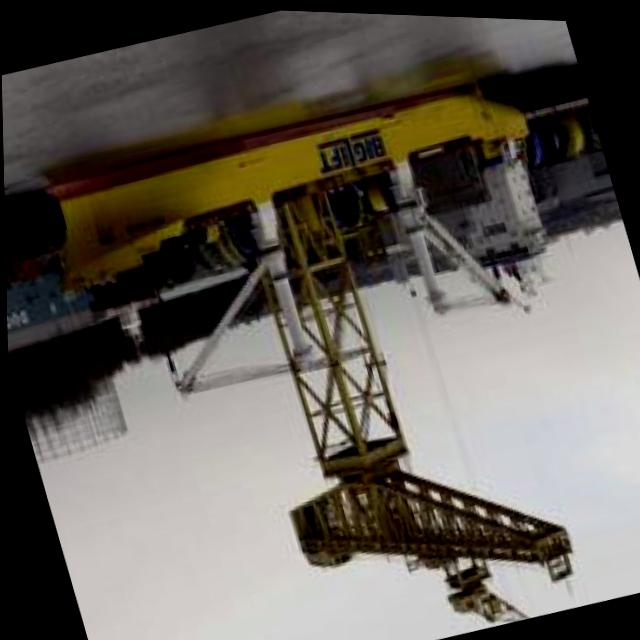ship2: (44, 81, 529, 395)
